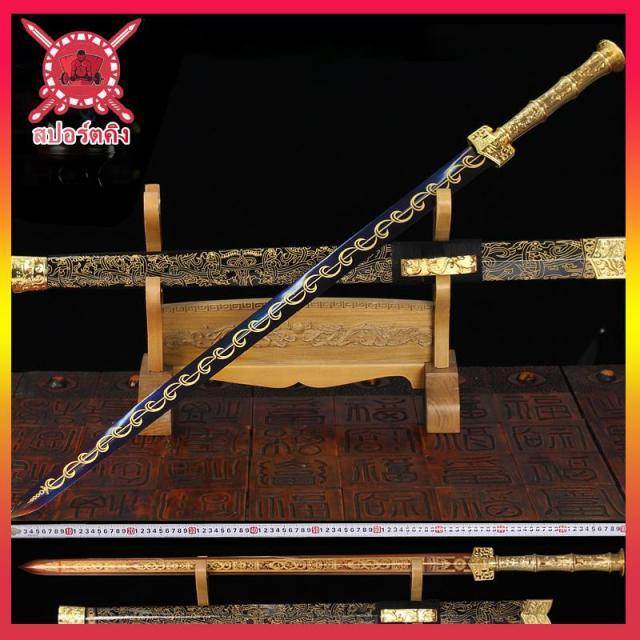long sword: (21, 39, 622, 504)
